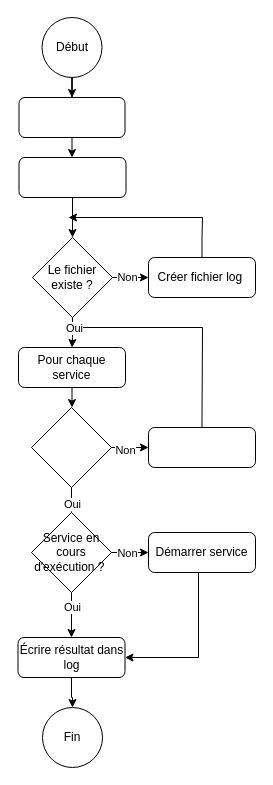
Image size: 273x785. Some labels were removed from this diagram. The centre of each missing label's shape, as x and y in pixels:
Définir chemin du fichier log: pixel 72 177
Définir liste des services: pixel 71 117
Le service existe ?: pixel 71 447
Écrire dans log "Service inexistant": pixel 202 447
